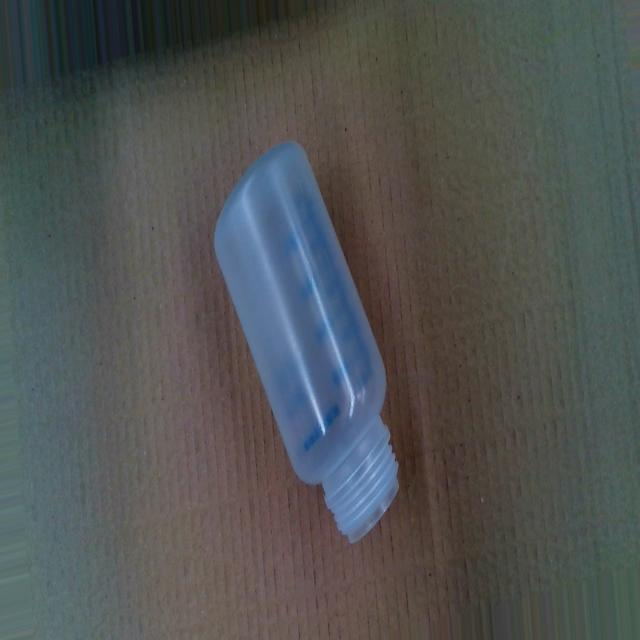bottle: (210, 132, 413, 549)
